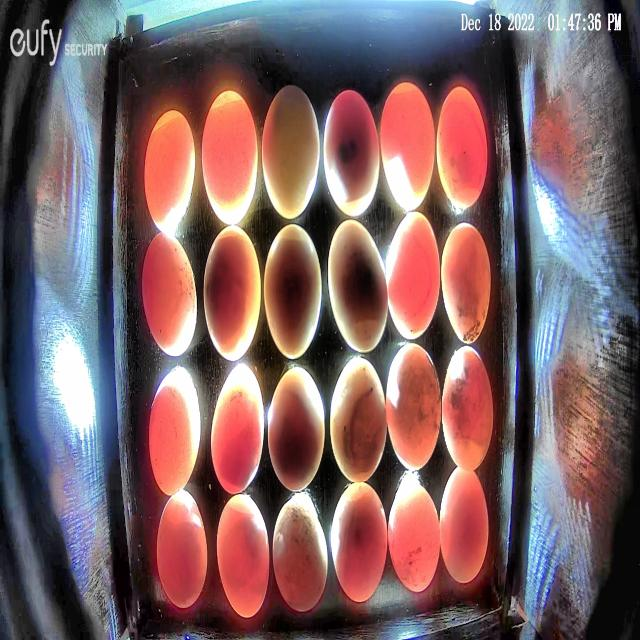DE: (327, 219, 389, 353), (204, 225, 262, 363), (264, 224, 322, 358), (262, 86, 319, 219), (202, 90, 258, 224), (379, 80, 435, 212), (141, 230, 198, 358), (329, 357, 386, 483), (386, 342, 442, 470), (324, 89, 379, 218), (330, 482, 388, 604), (268, 366, 324, 492), (148, 366, 201, 496), (211, 362, 263, 494), (216, 491, 270, 618), (388, 211, 440, 341), (442, 345, 494, 474), (272, 497, 328, 613), (437, 86, 487, 210), (143, 110, 194, 231), (440, 223, 491, 344), (157, 488, 207, 609), (440, 466, 489, 583), (388, 484, 440, 592)
